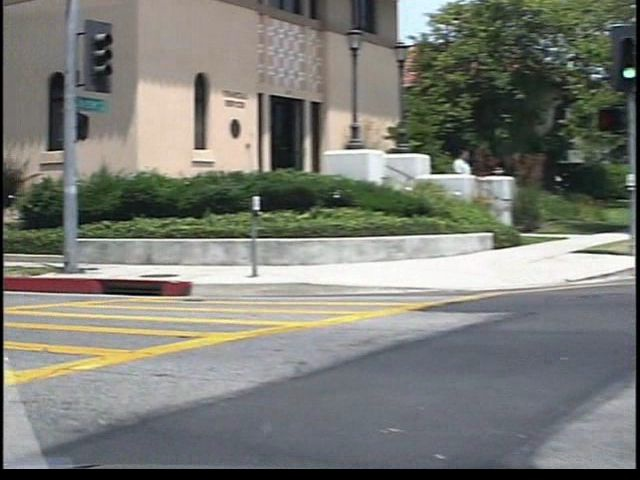person: (435, 144, 459, 222)
